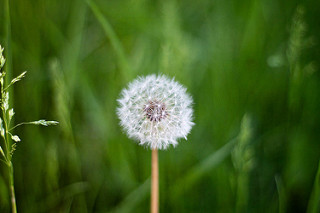dandelion white: (115, 73, 197, 151)
